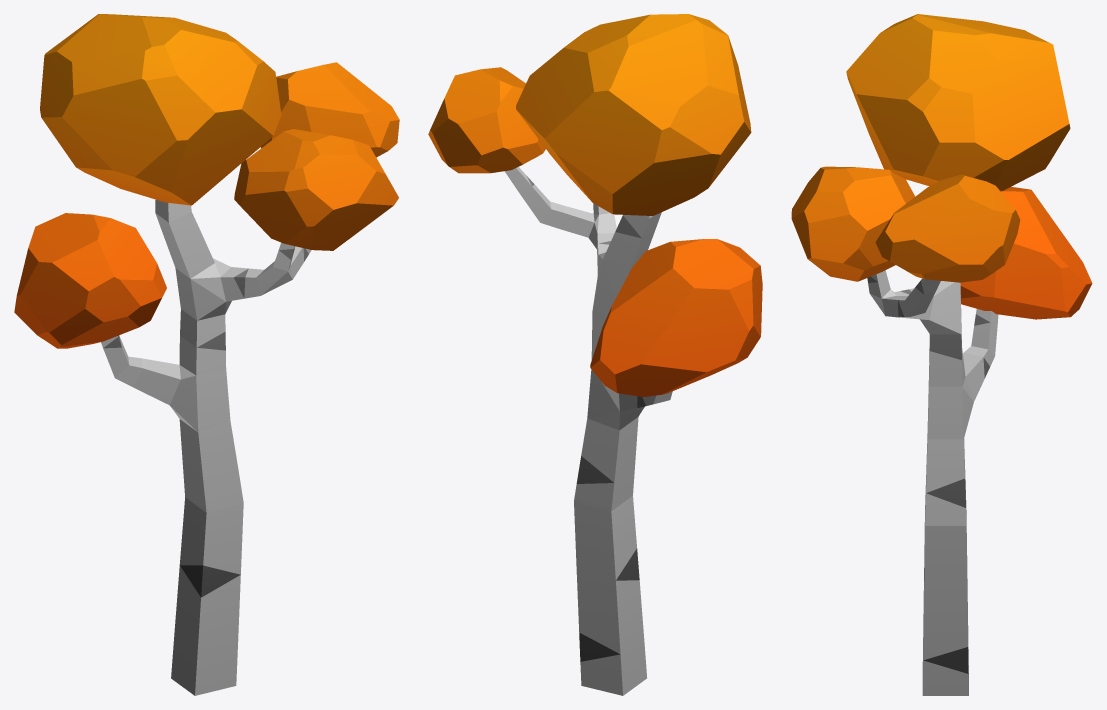
The model's file is autumn birch tree.fbx.
3 views of the same model, side by side, from view 1: azimuth 30°, elevation 25°; view 2: azimuth 150°, elevation 25°; view 3: azimuth 270°, elevation 25° (orthographic). The views are drawn at different scales.
Visible parts, largest first — view 1: autumn birch tree; view 2: autumn birch tree; view 3: autumn birch tree.
Part boxes in pixels (x1,y1,x2,y2): autumn birch tree: (14,14,399,695); autumn birch tree: (428,14,762,695); autumn birch tree: (791,14,1092,695).
Bounding box in the file's own units: 370 × 706 × 300.
